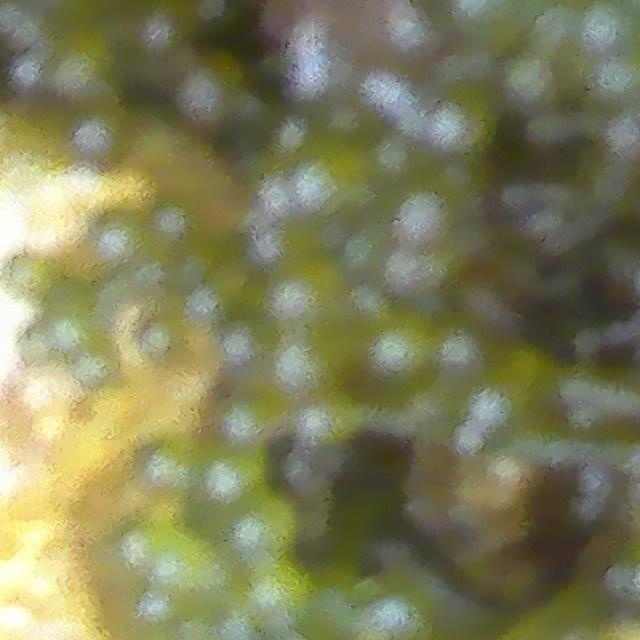SeaGrape: (352, 577, 439, 640), (198, 443, 271, 513), (224, 494, 294, 564), (271, 275, 347, 339), (245, 573, 316, 639), (455, 0, 539, 54), (269, 342, 344, 402), (286, 398, 361, 452), (153, 542, 213, 601), (216, 394, 278, 448)
